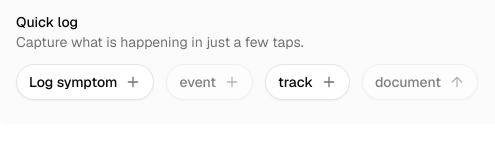
Test: HubQuickActions - event combobox › disables the event button and shows tooltip guidance when there are no tracks
Hover over the button "event" at (210, 82), box x1=166 y1=64 x2=253 y2=100
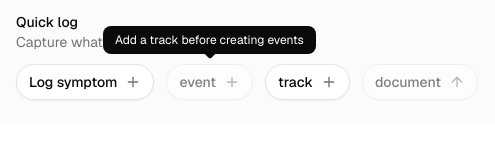
Expected: the tooltip reads "Add a track before creating events", x1=115 y1=32 x2=304 y2=48
